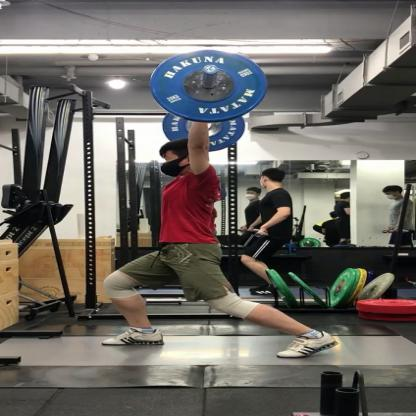Barbell: (145, 44, 276, 124)
